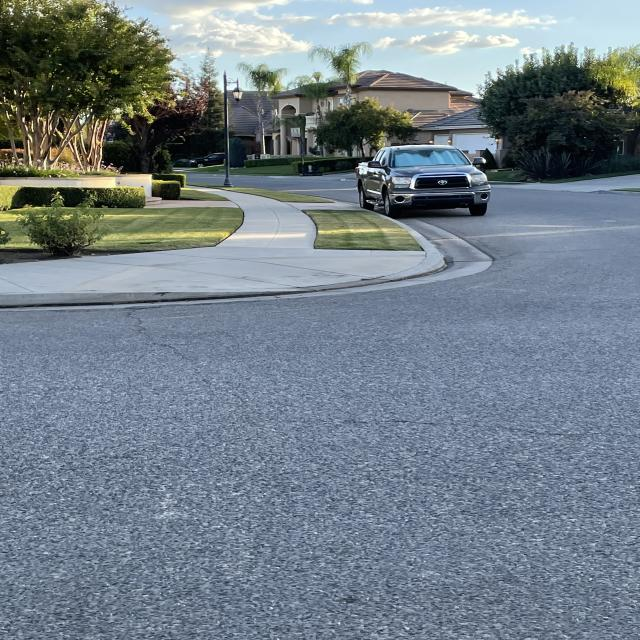curb: (2, 284, 328, 312), (411, 213, 465, 281)
road: (6, 311, 587, 632), (463, 213, 640, 639), (508, 186, 638, 300)
walkway: (84, 251, 230, 285), (8, 258, 130, 296), (199, 243, 314, 267), (241, 218, 311, 253), (240, 197, 310, 229)
walkway-edge: (2, 238, 235, 271), (309, 237, 440, 264), (304, 204, 330, 264), (233, 192, 255, 243)
